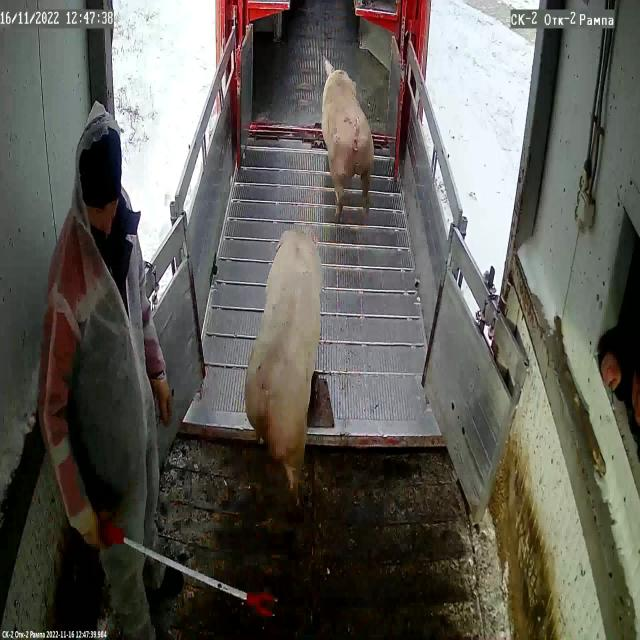pig: (245, 231, 322, 492), (322, 60, 374, 217)
